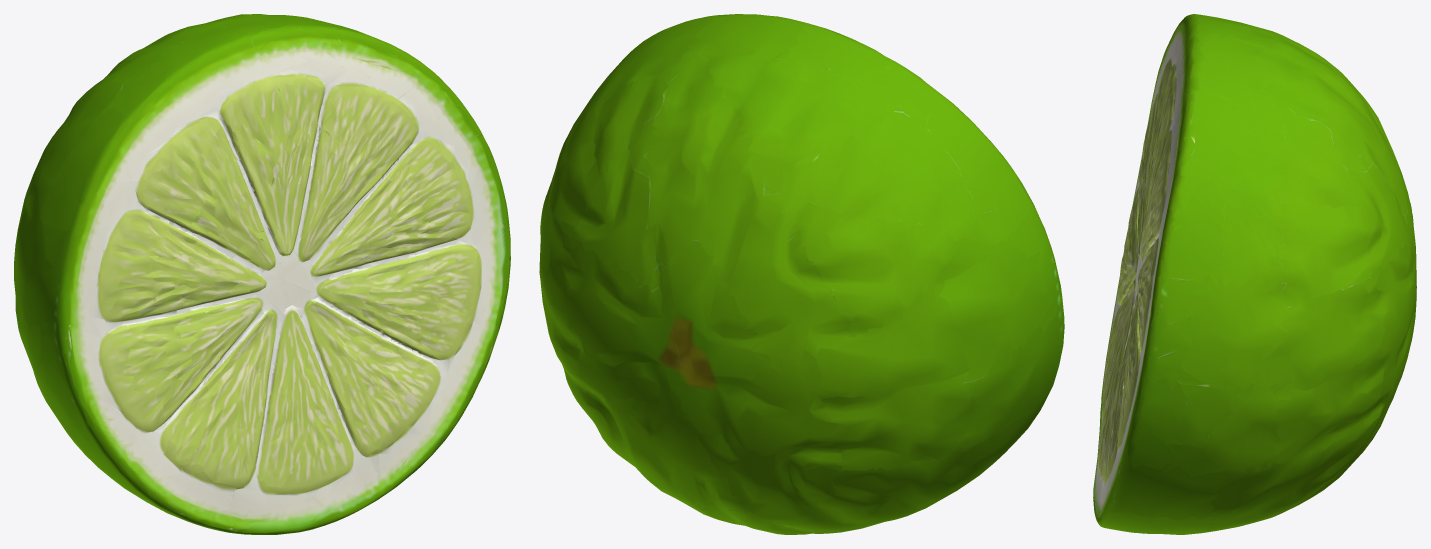
File: fruit-lime.glb
3 views of the same model, side by side, from view 1: azimuth 30°, elevation 25°; view 2: azimuth 150°, elevation 25°; view 3: azimuth 270°, elevation 25° (orthographic). The views are drawn at different scales.
Bounding box in the file's own units: 1.9 × 1.88 × 1.17.
1 material, 1 textured.
